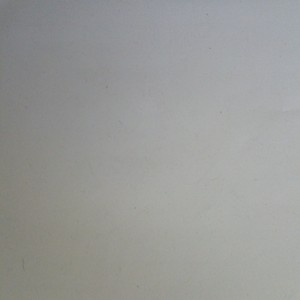base: (2, 1, 299, 299)
